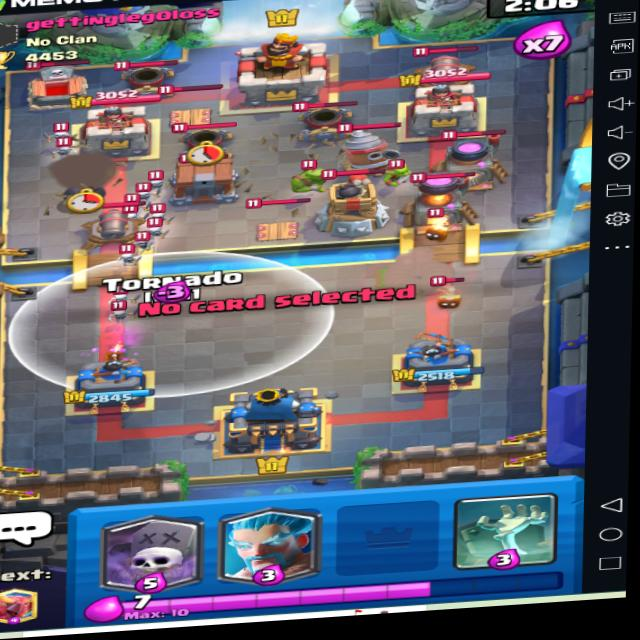bomb-tower: (316, 160, 400, 238)
brawler: (291, 155, 333, 191)
cannon: (408, 40, 485, 91), (76, 199, 142, 249)
fire-spirit: (432, 271, 477, 313), (417, 215, 457, 244)
furnace: (431, 121, 520, 199), (402, 164, 485, 235)
goblin-cage: (169, 148, 246, 201)
goblin-drill: (325, 117, 404, 180)
mortar: (114, 46, 185, 99), (289, 95, 356, 145)
skeleton: (139, 211, 174, 247), (141, 164, 174, 195), (110, 239, 144, 268), (103, 298, 134, 329), (128, 182, 162, 208), (131, 228, 163, 254), (108, 282, 141, 307), (150, 204, 181, 228), (49, 136, 85, 156), (41, 119, 69, 144)
tesla-closed: (149, 77, 227, 133), (242, 193, 313, 244)
tombstone: (16, 46, 103, 110)
